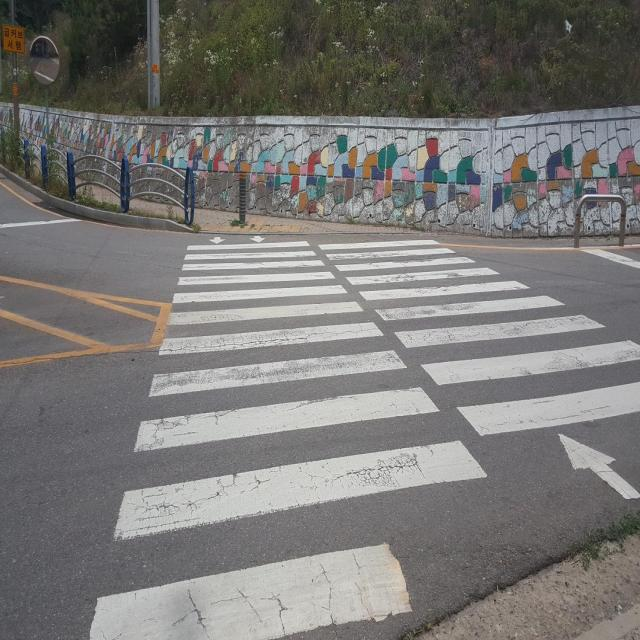횡단보도: (87, 230, 640, 640)
